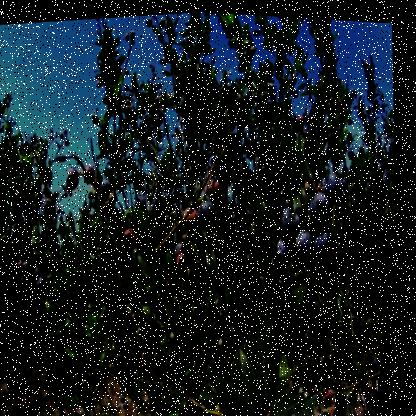intermediate: (183, 200, 207, 235), (124, 221, 148, 256), (208, 171, 231, 205), (181, 248, 200, 270), (86, 163, 103, 186), (110, 185, 124, 205)
mature: (297, 221, 327, 266), (280, 198, 314, 237), (309, 186, 340, 227), (314, 221, 344, 262), (322, 161, 349, 204), (276, 229, 305, 268), (199, 198, 227, 230), (67, 164, 86, 193), (40, 274, 55, 293), (26, 256, 40, 276)
young: (243, 33, 260, 56), (174, 326, 186, 342), (238, 86, 247, 102)
